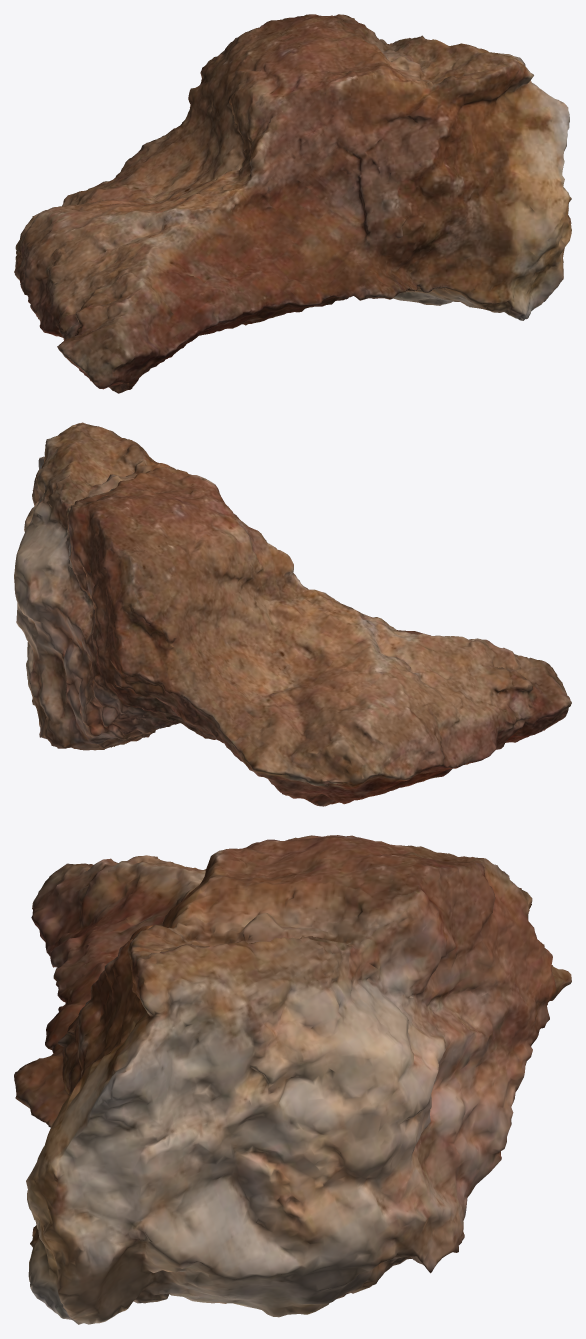
Rendered from Stone_01.glb.
3 renders of one model, top to bottom at view 1: azimuth 30°, elevation 25°; view 2: azimuth 150°, elevation 25°; view 3: azimuth 270°, elevation 25°, orthographic. The views are drawn at different scales.
Parts seen in each view (by area): view 1: stone_01; view 2: stone_01; view 3: stone_01.
Part boxes in pixels (<box>): stone_01: <box>14,14,571,393</box>; stone_01: <box>14,422,571,806</box>; stone_01: <box>14,835,571,1324</box>.
Size of the model in its own units: 0.1469 by 0.0718 by 0.0891.
Materials: 1 (1 with a texture image).
